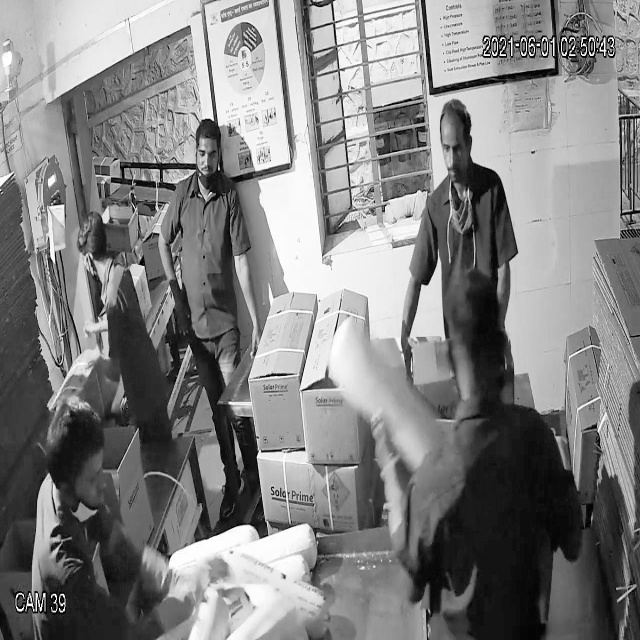Sin_gafas: (436, 132, 476, 164), (192, 140, 224, 167)
